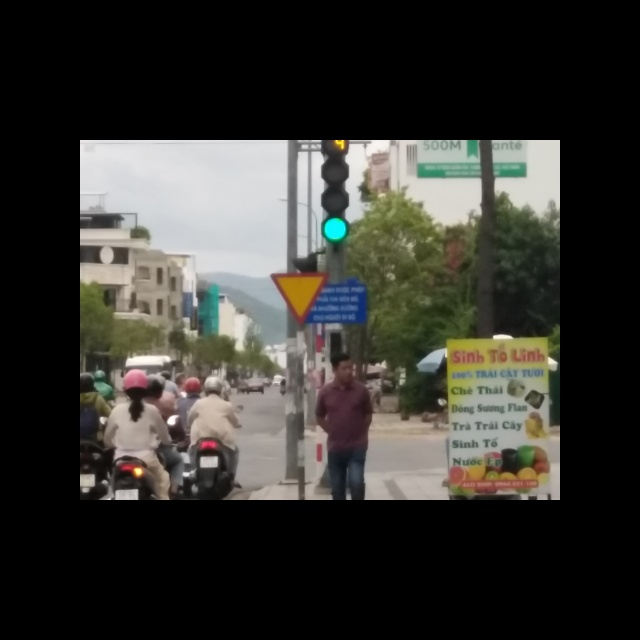Giao nhau với đường ưu tiên: (268, 272, 329, 327)
Đèn xanh: (321, 217, 349, 242)
